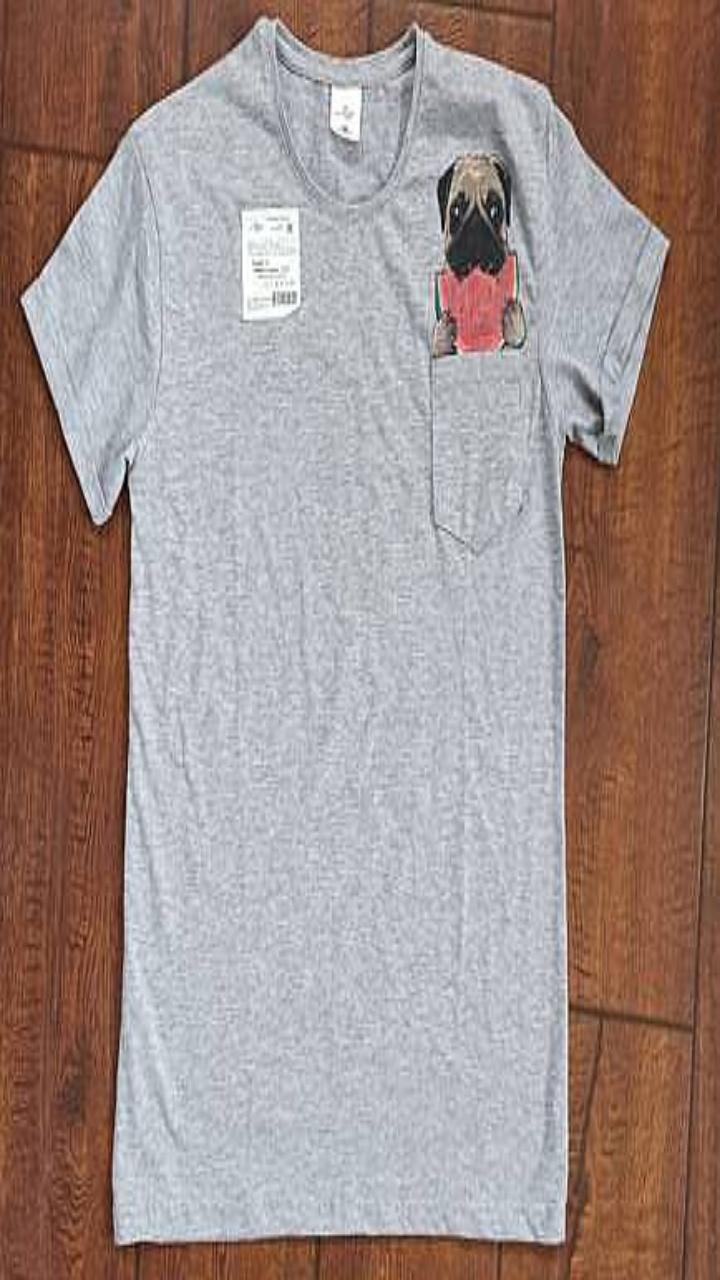T-Shirt: (21, 16, 668, 1243)
